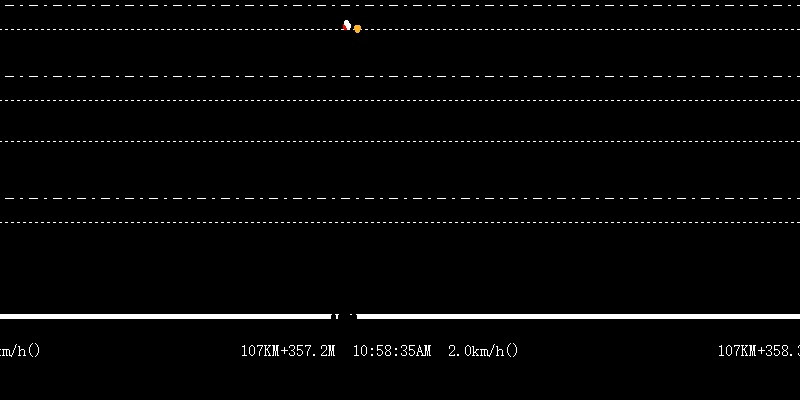face_1: (352, 21, 363, 36)
face_s: (340, 16, 351, 34)
